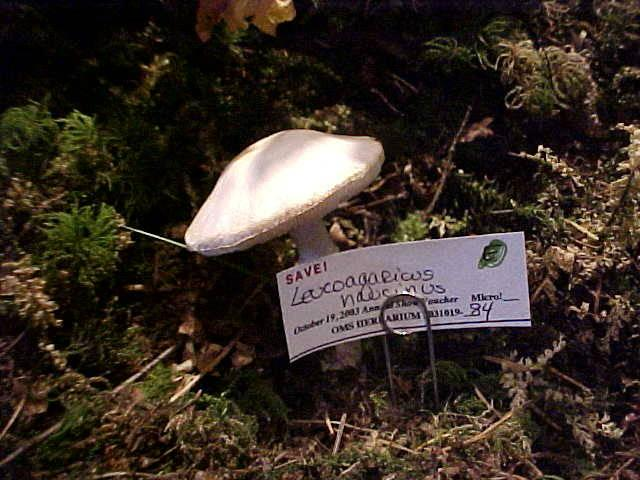Non-edible Mushroom: (182, 127, 386, 260)
